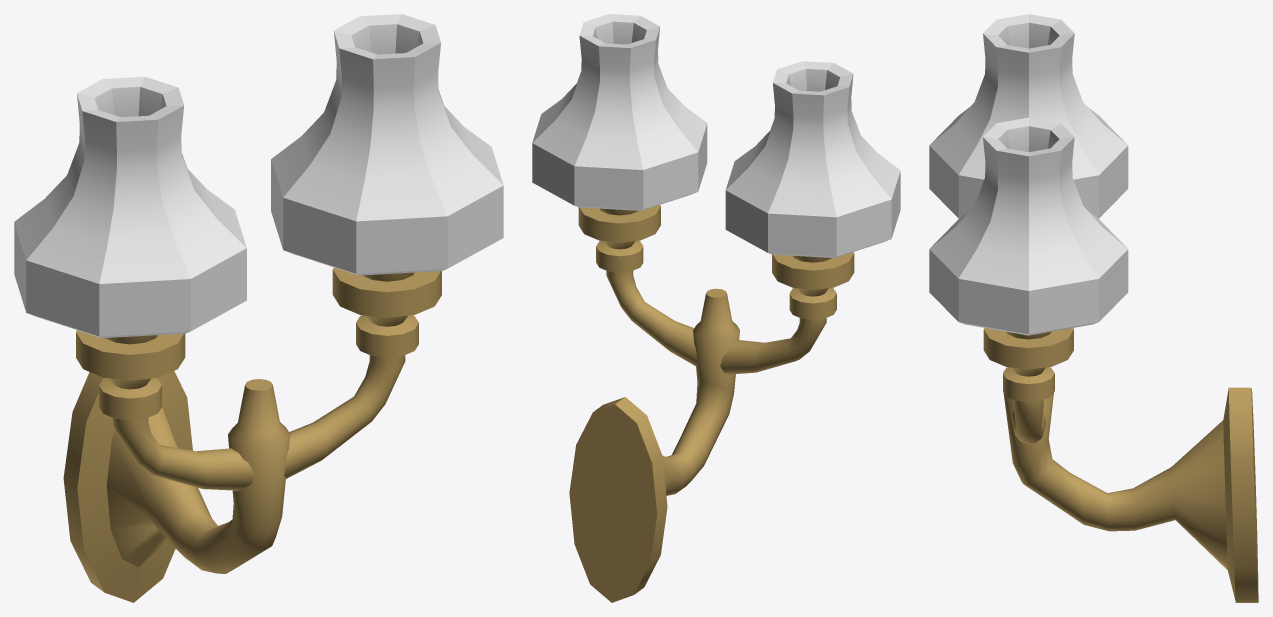
File: wall_lights.fbx
3 renders of one model, left to right at view 1: azimuth 30°, elevation 25°; view 2: azimuth 150°, elevation 25°; view 3: azimuth 270°, elevation 25°, orthographic. The views are drawn at different scales.
Visible parts, largest first — view 1: wall_lights; view 2: wall_lights; view 3: wall_lights.
Boxes of the visible parts, x1,y1,x2,y2 form: wall_lights: (14, 14, 503, 602); wall_lights: (532, 14, 900, 602); wall_lights: (929, 14, 1258, 602).
Size of the model in its own units: 1.01 by 1.3 by 0.7513.
